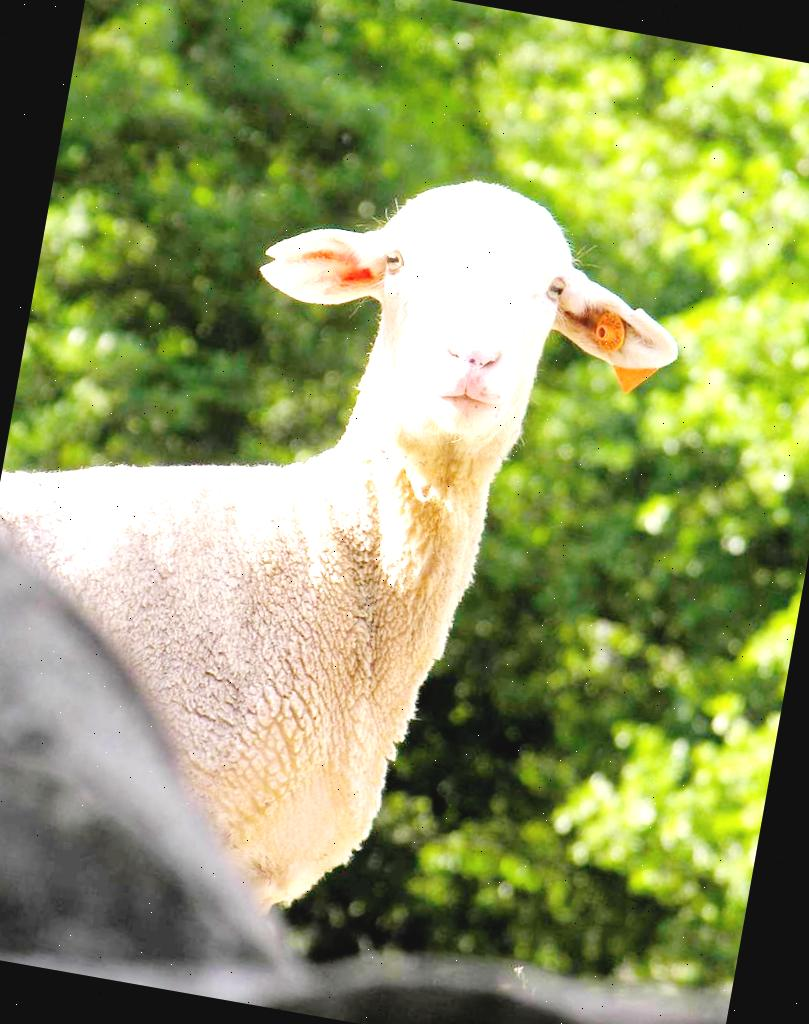Sheep: (0, 99, 703, 1009)
